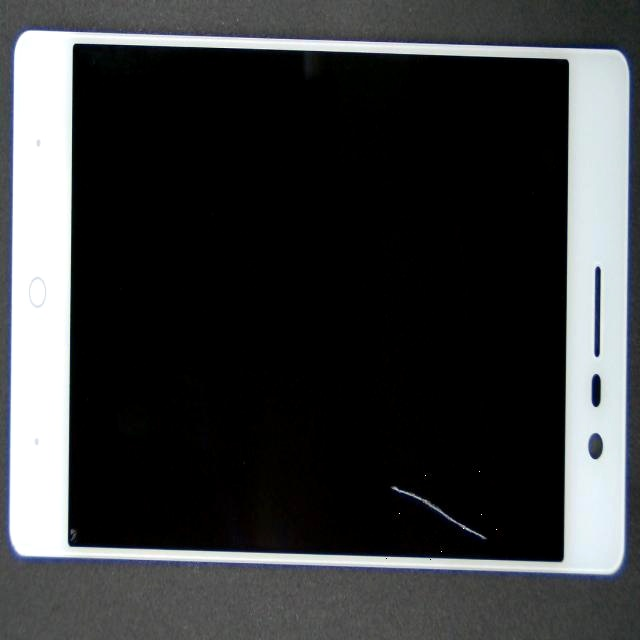scratch: (128, 219, 617, 640)
